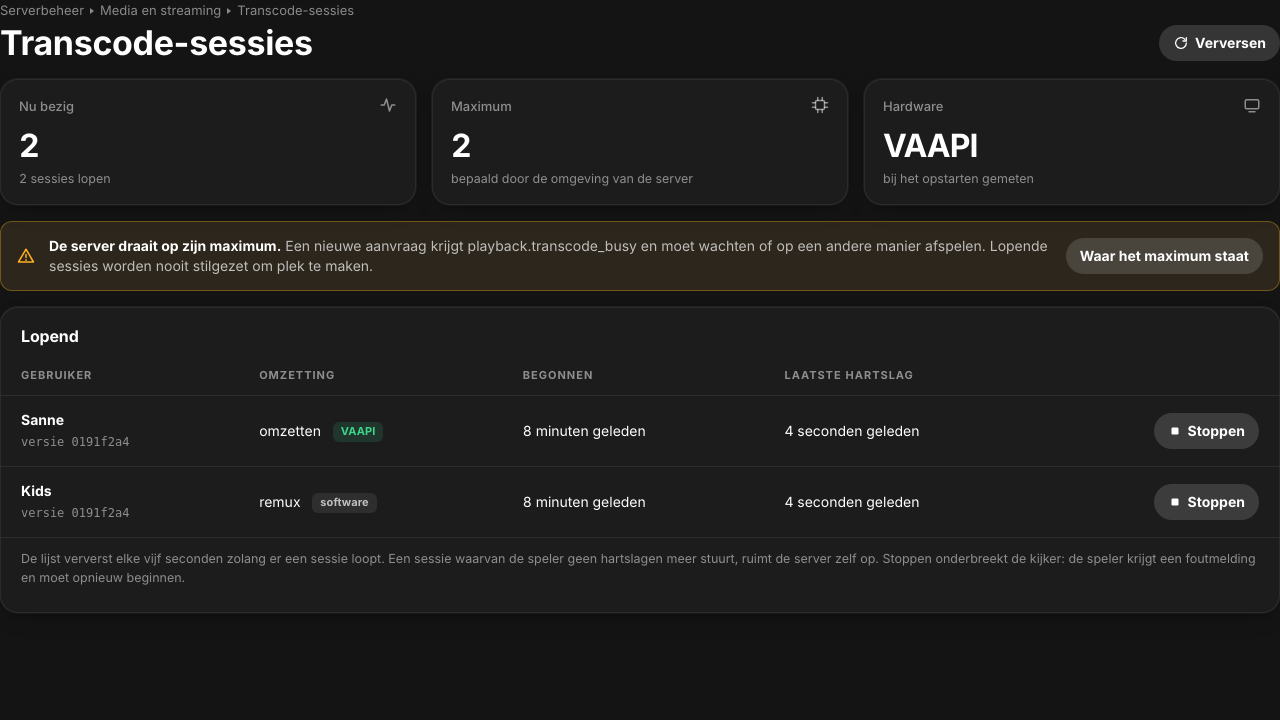
Test case: scherm 37, Stoppen › stopt na bevestiging precies die sessie en leest de lijst opnieuw
Click the button with aria-label "Transcodesessie van Sanne stoppen": (1206, 431) 1154,413 -> 1259,449
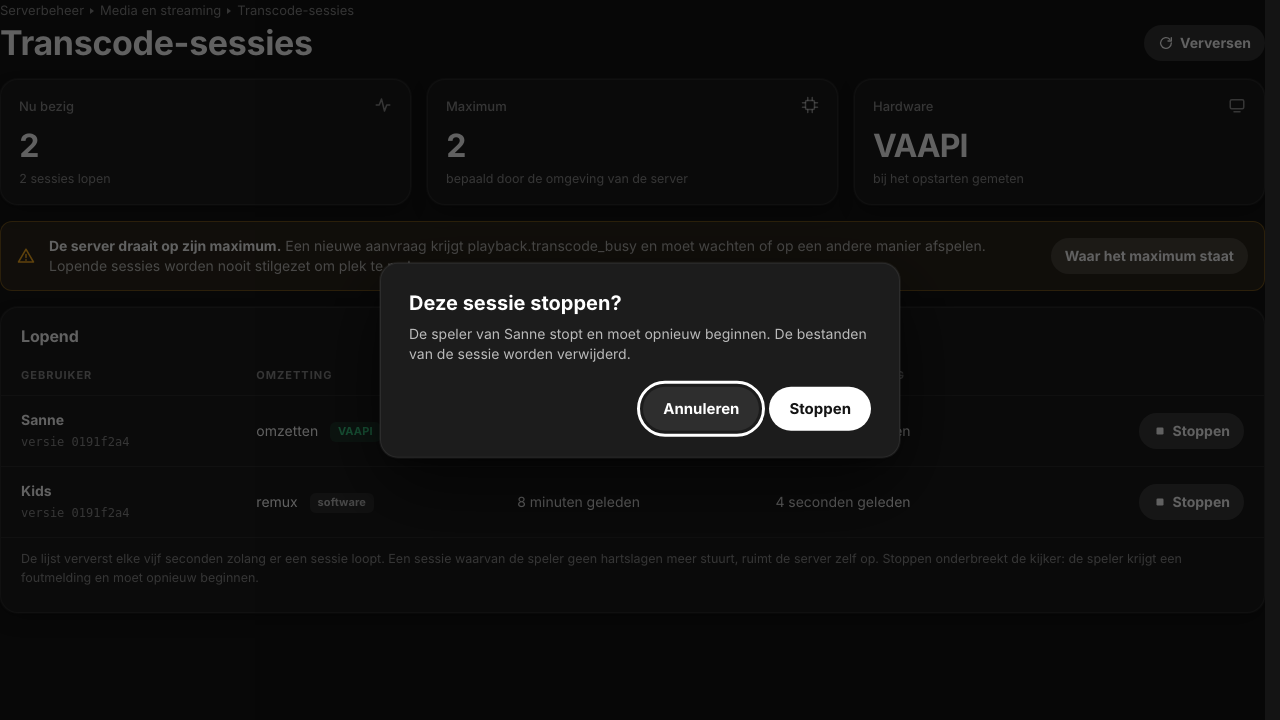
Click the button "Stoppen": (820, 408) 769,386 -> 871,430
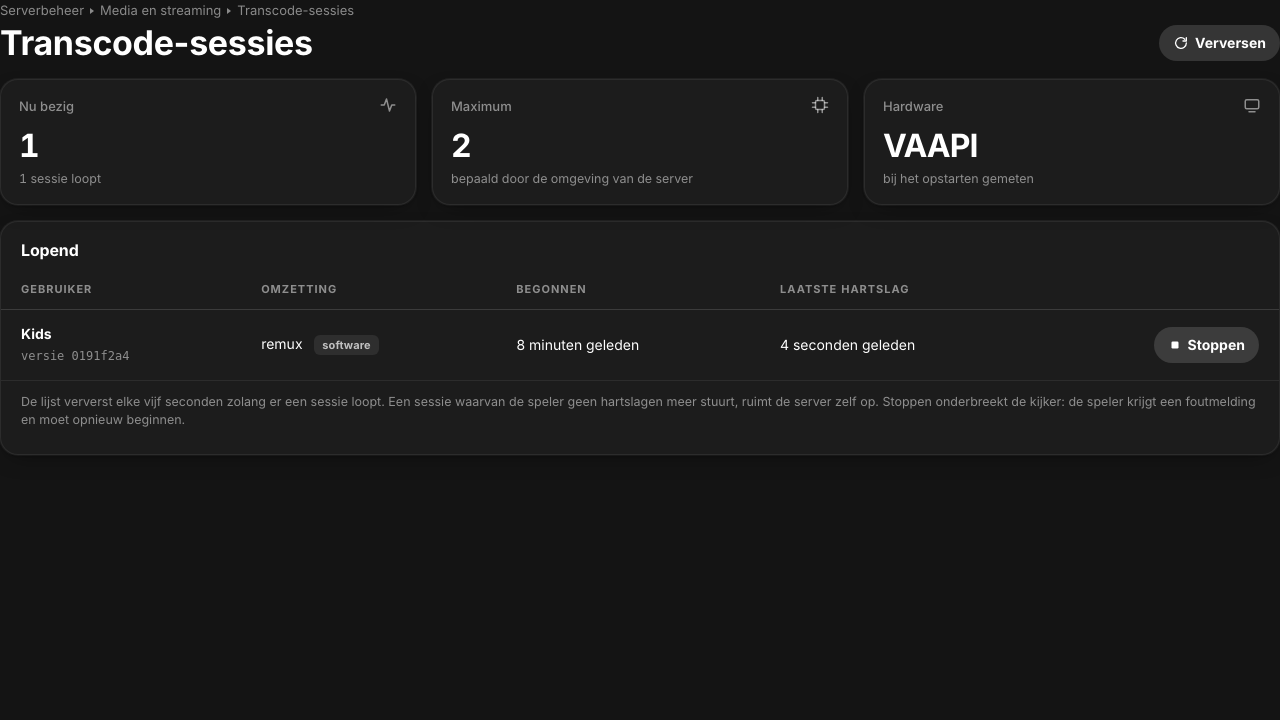
Check: the text "Kids" is shown, box 21,325 -> 52,342
Check: the text "Sanne" is gone
